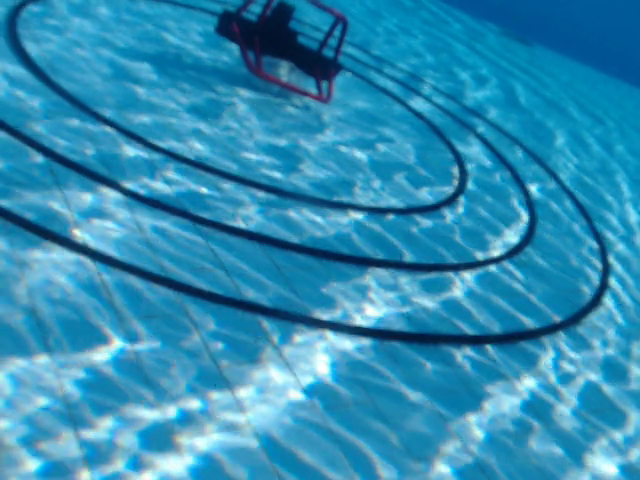submarine: (215, 1, 350, 108)
